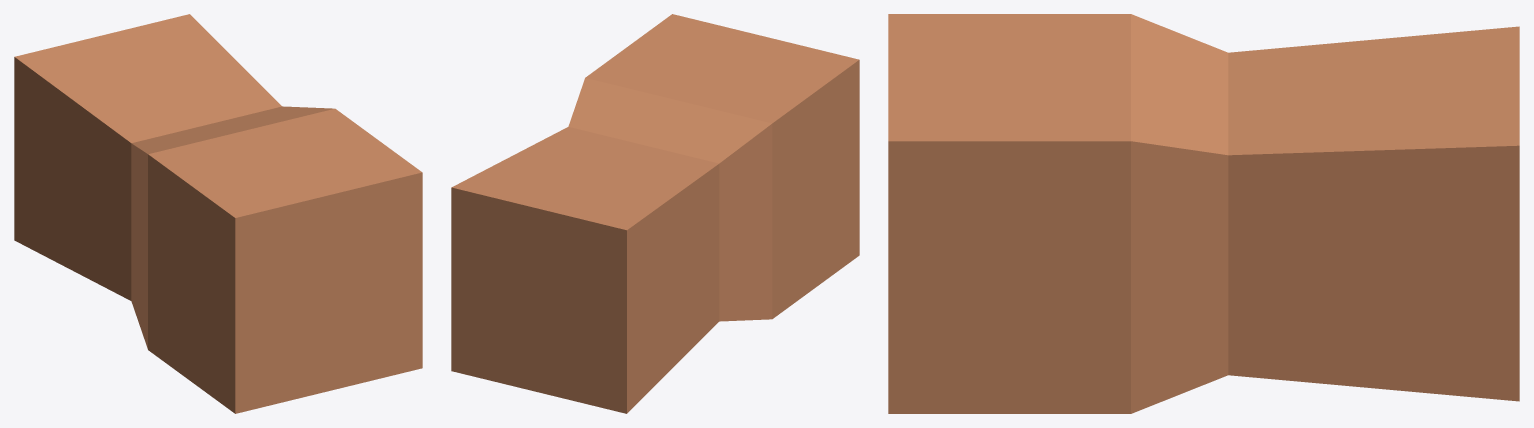
The model's file is vegetableOilCork.obj.
3 views of the same model, side by side, from view 1: azimuth 30°, elevation 25°; view 2: azimuth 150°, elevation 25°; view 3: azimuth 270°, elevation 25° (orthographic). The views are drawn at different scales.
Visible parts, largest first — view 1: Cork; view 2: Cork; view 3: Cork.
Boxes of the visible parts, x1,y1,x2,y2 form: Cork: (14, 14, 422, 413); Cork: (451, 14, 859, 413); Cork: (888, 14, 1519, 413).
Size of the model in its own units: 0.062 by 0.062 by 0.13.
